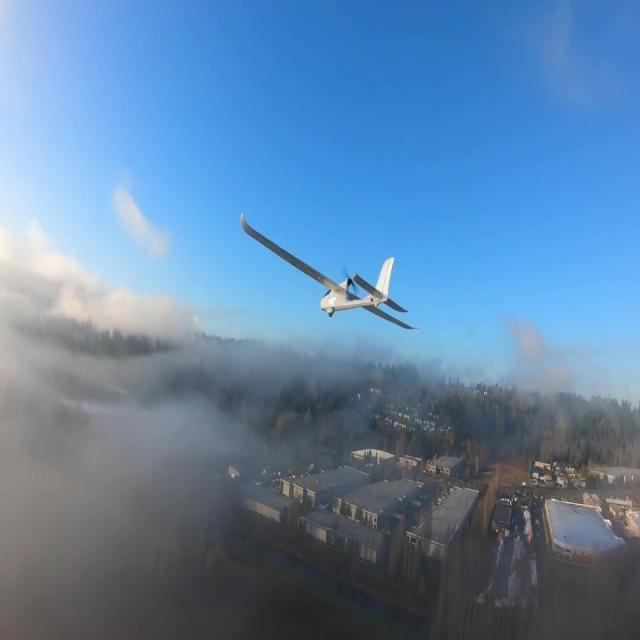iha: (234, 243, 417, 299)
